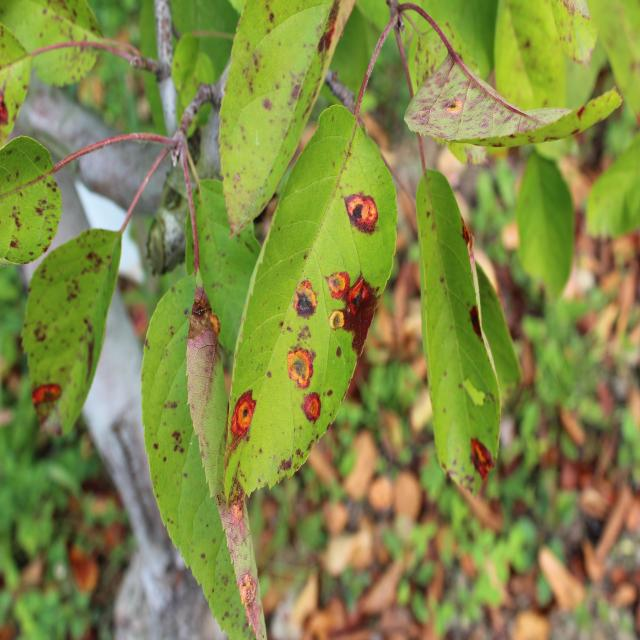Rust: (323, 264, 379, 360), (338, 179, 383, 244), (21, 368, 72, 421), (456, 434, 504, 489), (269, 338, 318, 391), (230, 382, 258, 468), (285, 276, 322, 323), (296, 394, 332, 435)
